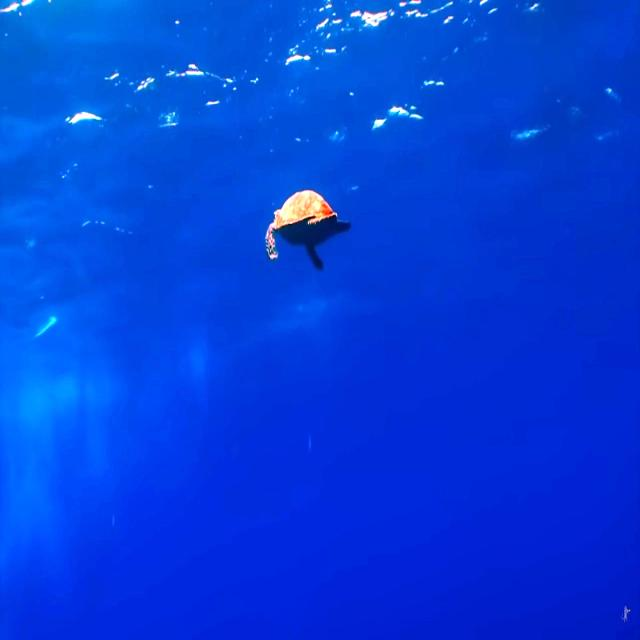Sea turtle: (264, 190, 352, 276)
